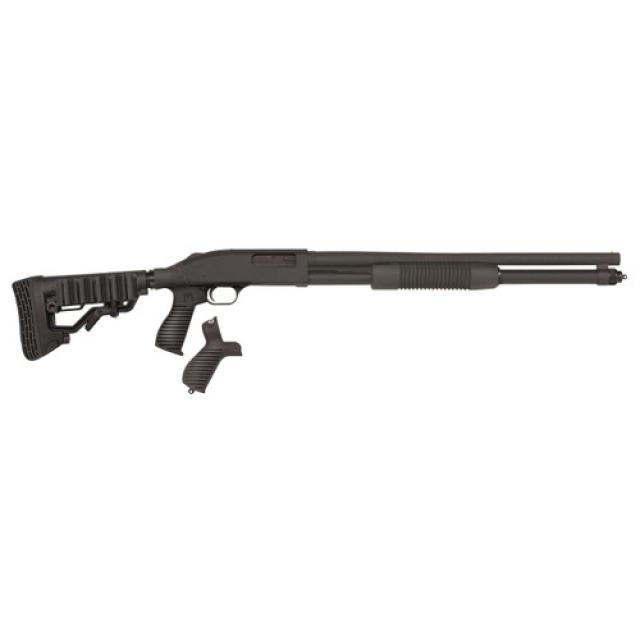ShotGun: (12, 248, 627, 364)
